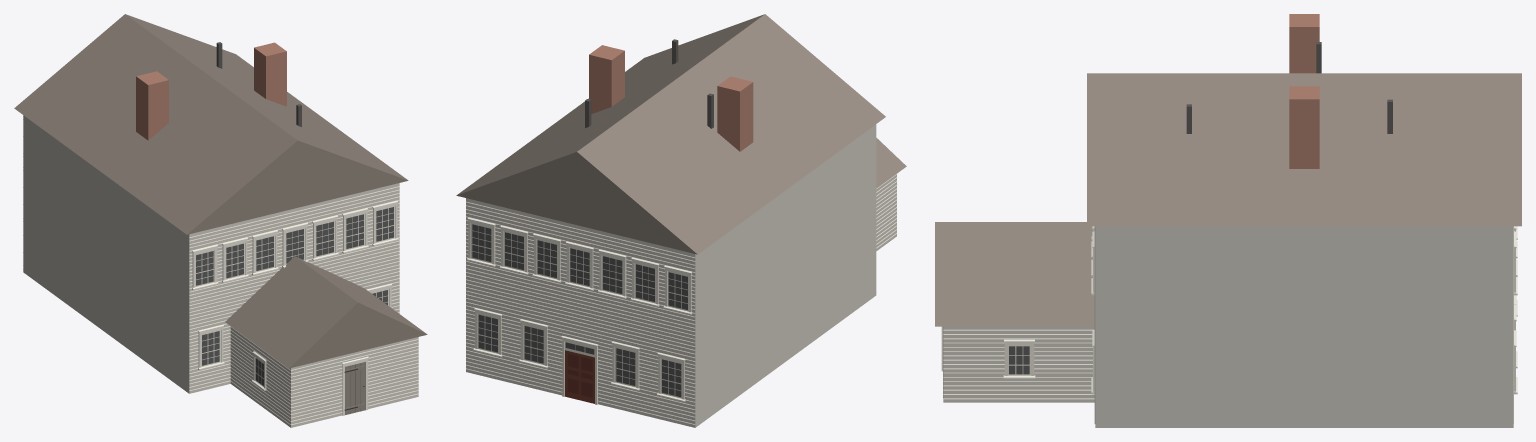
Rendered from recon_1835_core_h3_050__inferred_1835.glb.
3 renders of one model, left to right at view 1: azimuth 30°, elevation 25°; view 2: azimuth 150°, elevation 25°; view 3: azimuth 270°, elevation 25°, orthographic. The views are drawn at different scales.
Visible parts, largest first — view 1: recon_1835_core_h3_050__inferred_1835; view 2: recon_1835_core_h3_050__inferred_1835; view 3: recon_1835_core_h3_050__inferred_1835.
Part boxes in pixels (left/top/right/bottom): recon_1835_core_h3_050__inferred_1835: left=14, top=14, right=427, bottom=427; recon_1835_core_h3_050__inferred_1835: left=456, top=14, right=906, bottom=427; recon_1835_core_h3_050__inferred_1835: left=935, top=14, right=1521, bottom=427.
Size of the model in its own units: 9.56 by 10.03 by 17.39.
